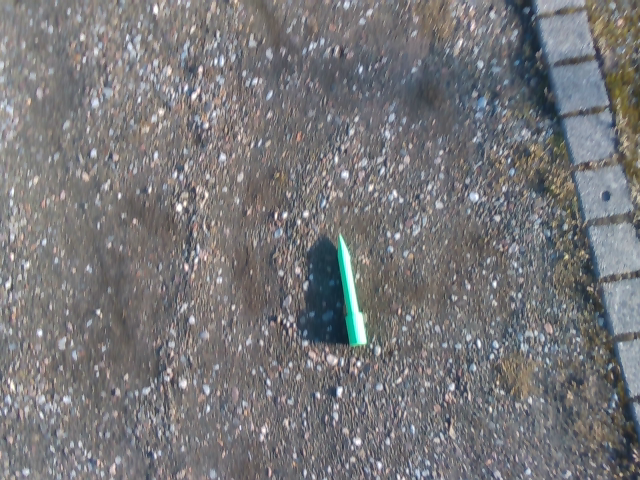Probe: (336, 229, 370, 351)
